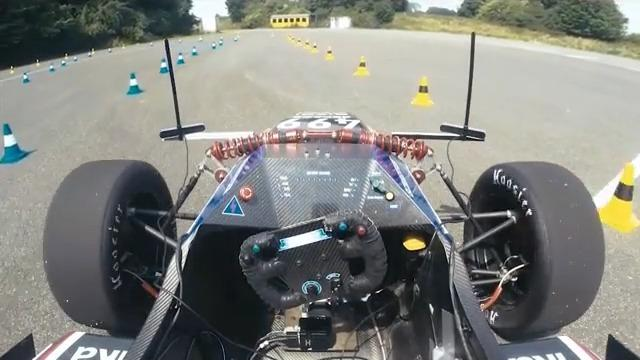blue_cone: (0, 121, 34, 165), (125, 72, 144, 96), (159, 57, 170, 75), (176, 52, 185, 65), (191, 45, 198, 56)
yellow_cone: (591, 158, 640, 235), (411, 74, 435, 106), (353, 55, 369, 77), (324, 46, 336, 61)
